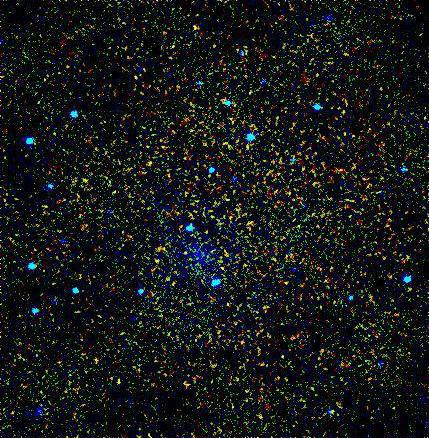star: (179, 11, 209, 41)
